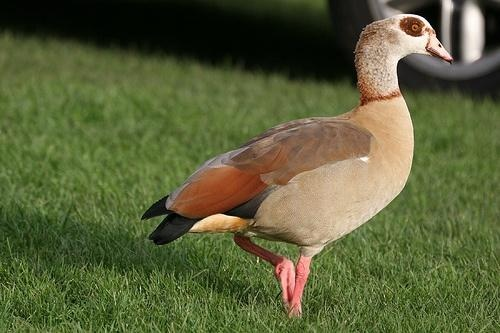bird: (143, 12, 459, 322)
